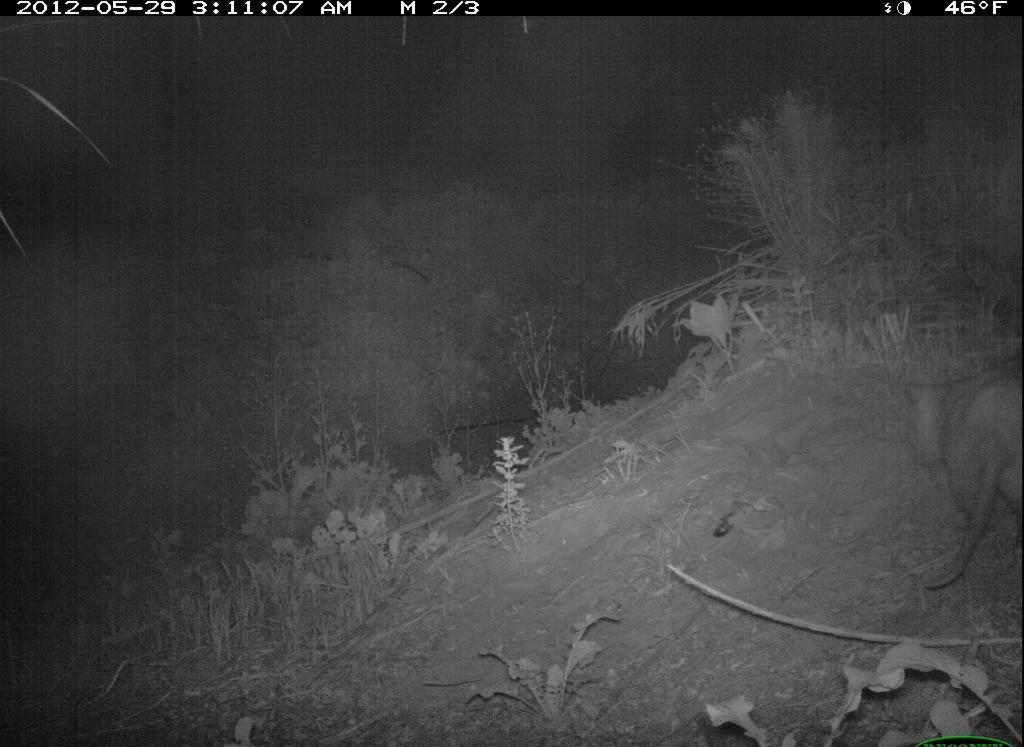opossum: (888, 346, 1023, 600)
